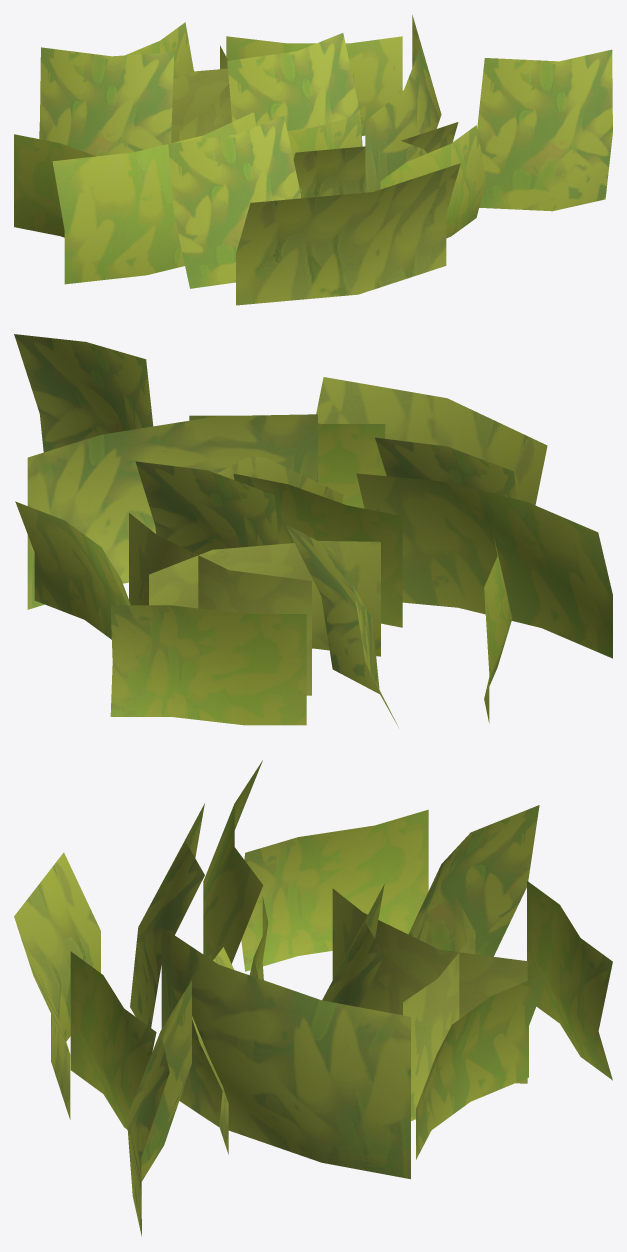
The model's file is V_Grass.FBX.
3 views of the same model, one above another, from view 1: azimuth 30°, elevation 25°; view 2: azimuth 150°, elevation 25°; view 3: azimuth 270°, elevation 25° (orthographic). The views are drawn at different scales.
Visible parts, largest first — view 1: Object008; view 2: Object008; view 3: Object008.
Boxes of the visible parts, left/top/right/bottom form: Object008: left=14, top=15, right=612, bottom=305; Object008: left=14, top=334, right=612, bottom=727; Object008: left=14, top=760, right=612, bottom=1236.
Size of the model in its own units: 78.58 by 21.85 by 60.86.
